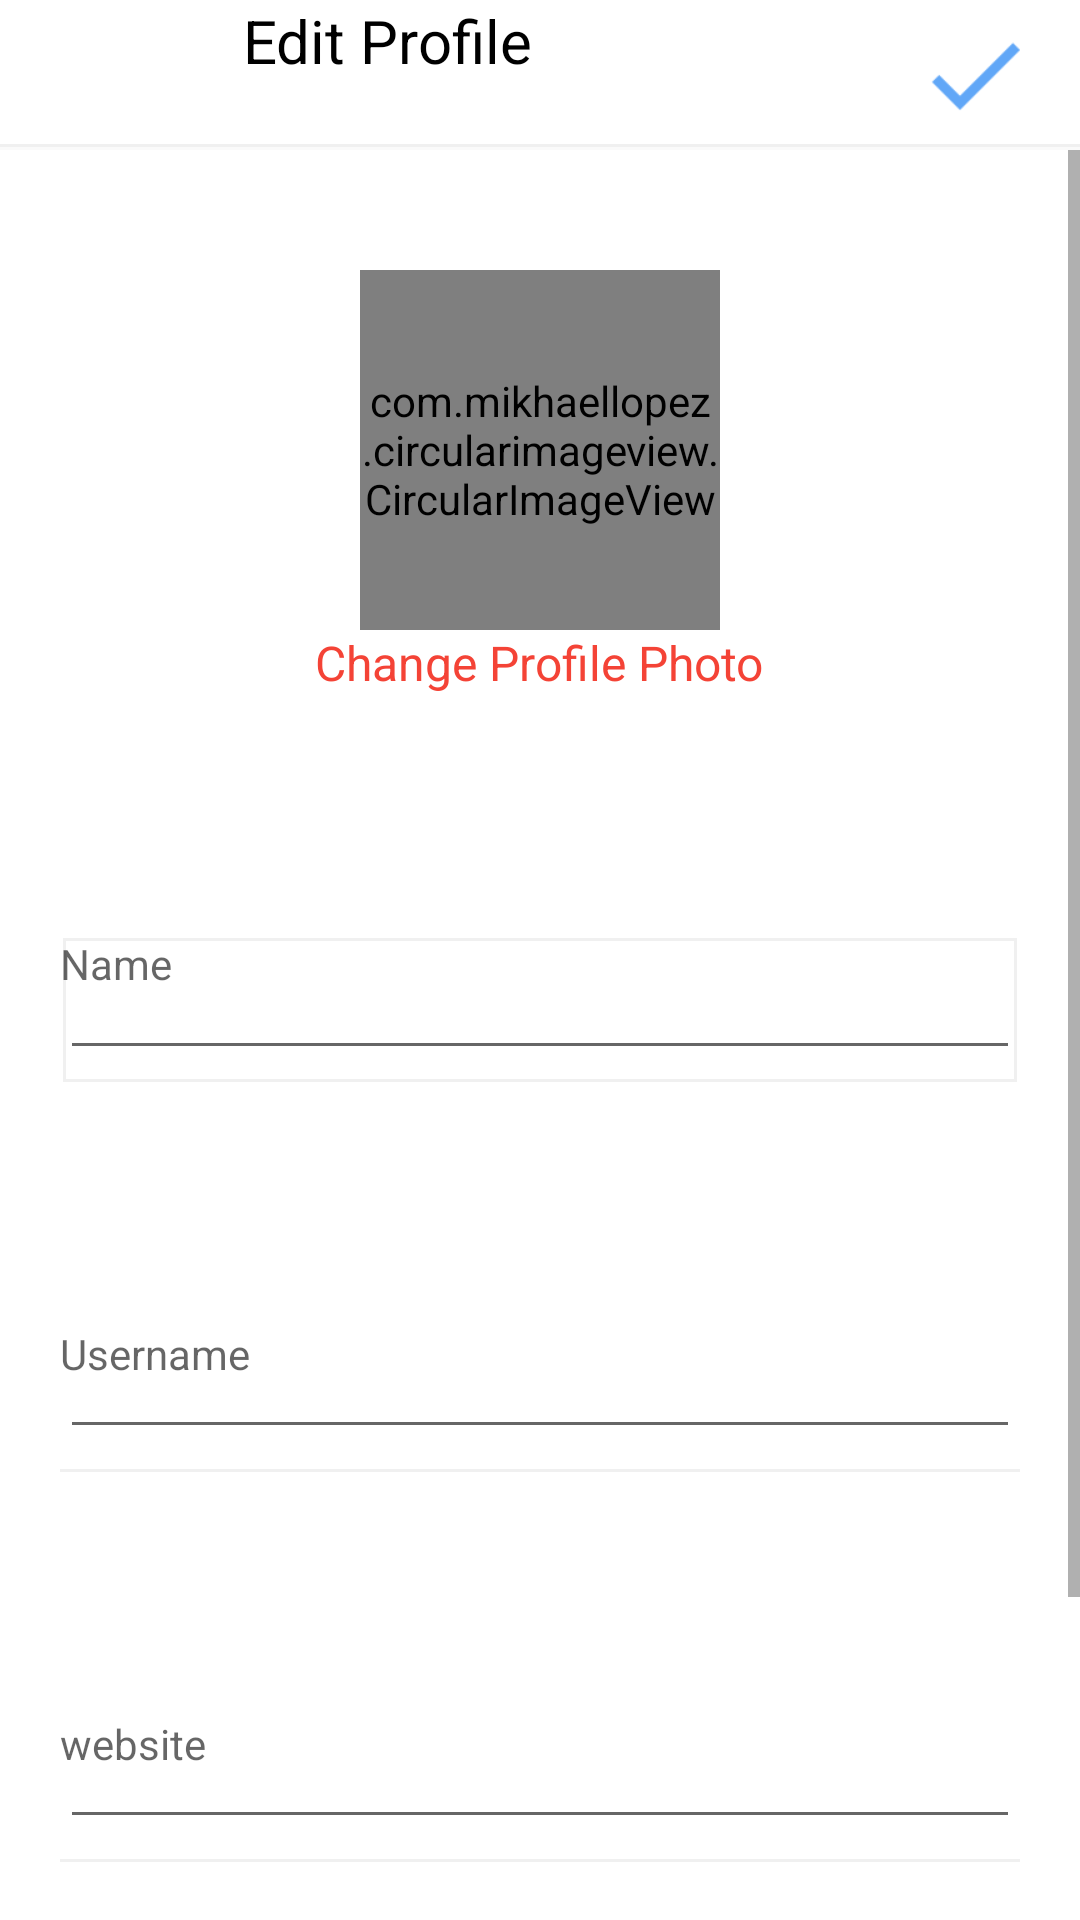

Icon bounding boxes for this 1080*1920 phone screenshot, format (x1, y1, x2, y2):
checkmark: (932, 43, 1020, 110)
